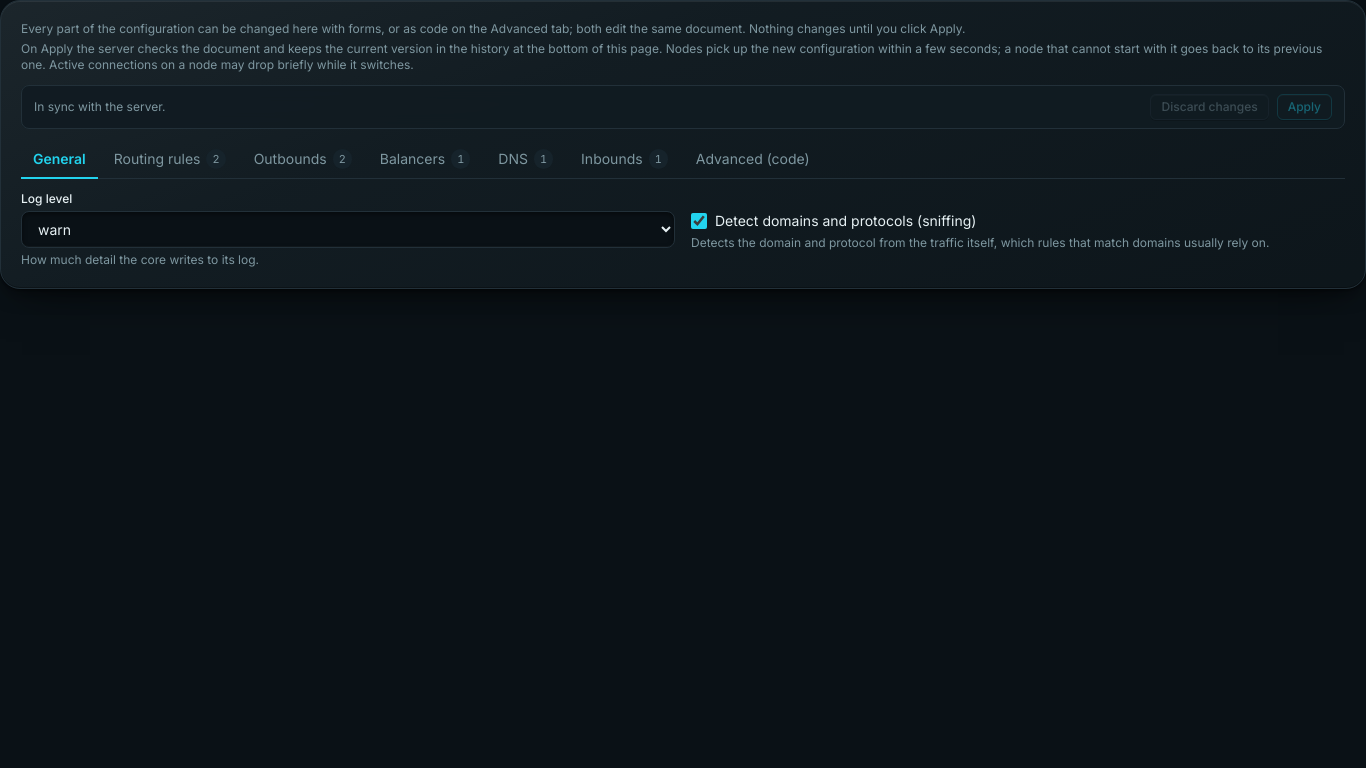
Test: outbounds › takes a duplicate tag at the field, not at Apply
The image size is (1366, 768).
Expected: the element named "Core Config" is shown, [21,141,1345,179]
Click the tab "Outbounds 2": point(303, 160) [242,141,364,179]
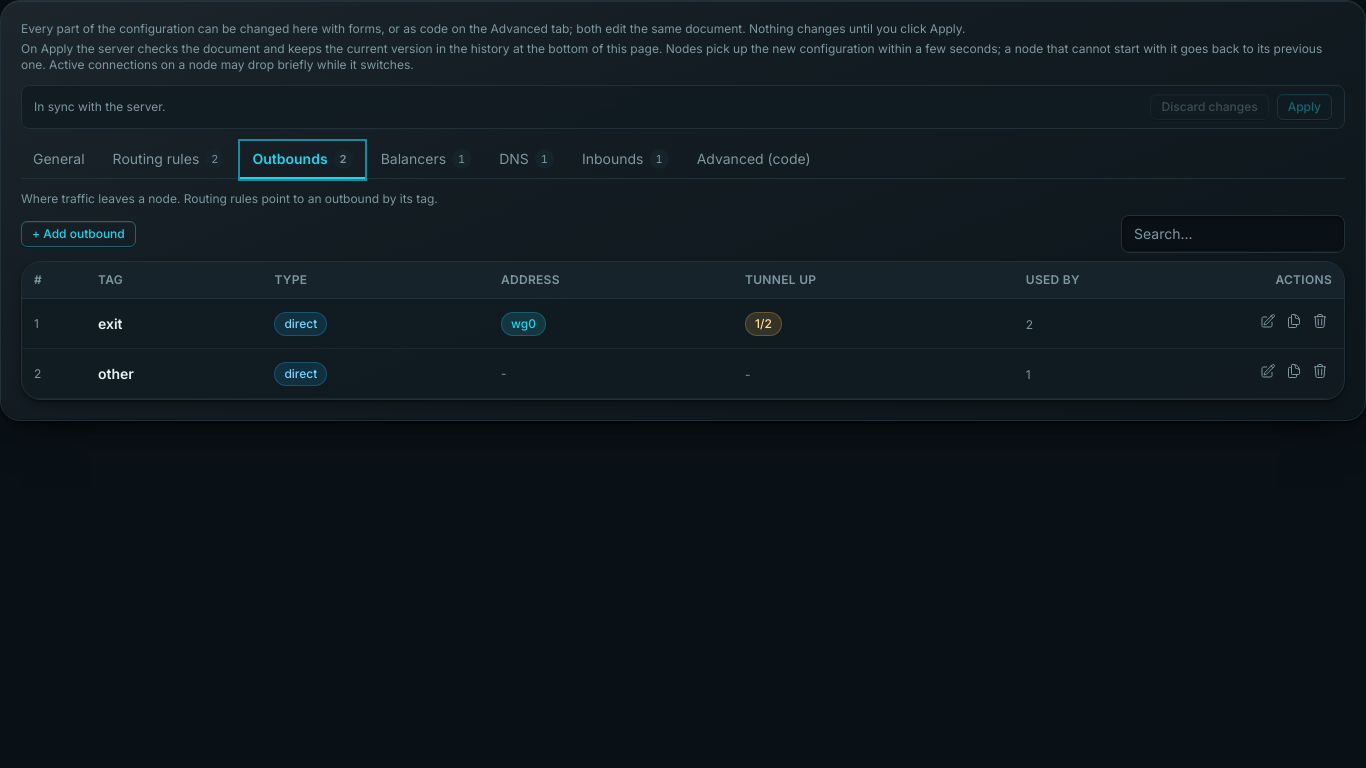
Click the button "+ Add outbound": point(78, 234) [21,221,136,247]
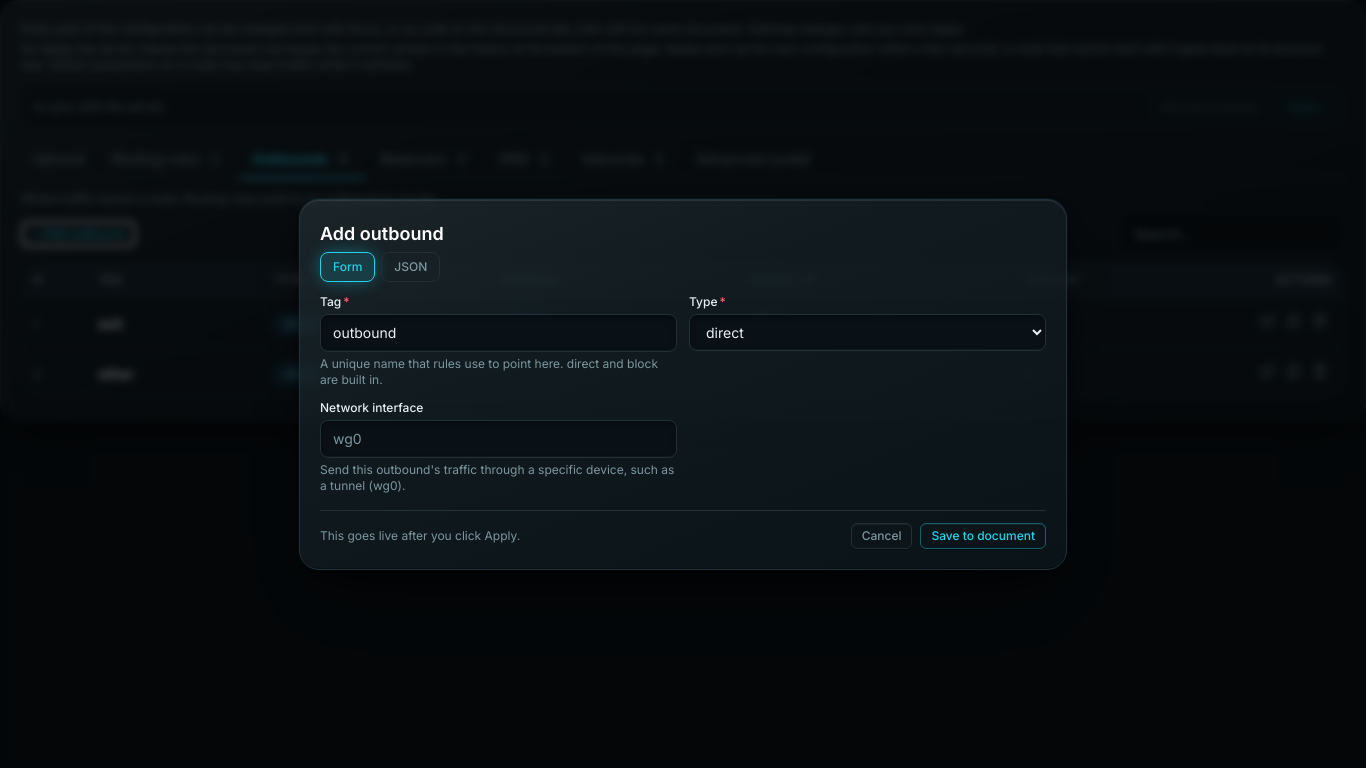
Replace the text in the field with id "core-field-tag" with "exit": point(498, 332) [320,314,677,352]
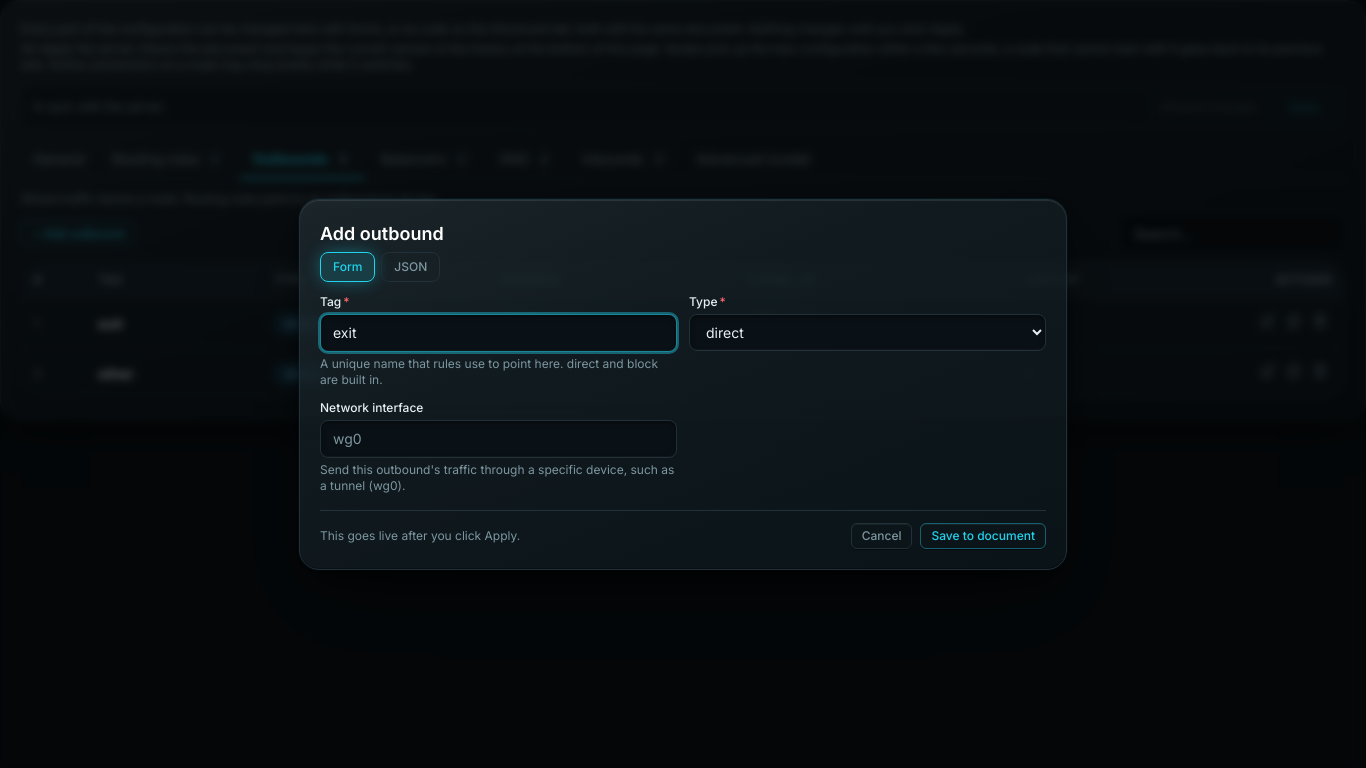
Click the button "Save to document": point(983, 536) [920,522,1046,548]
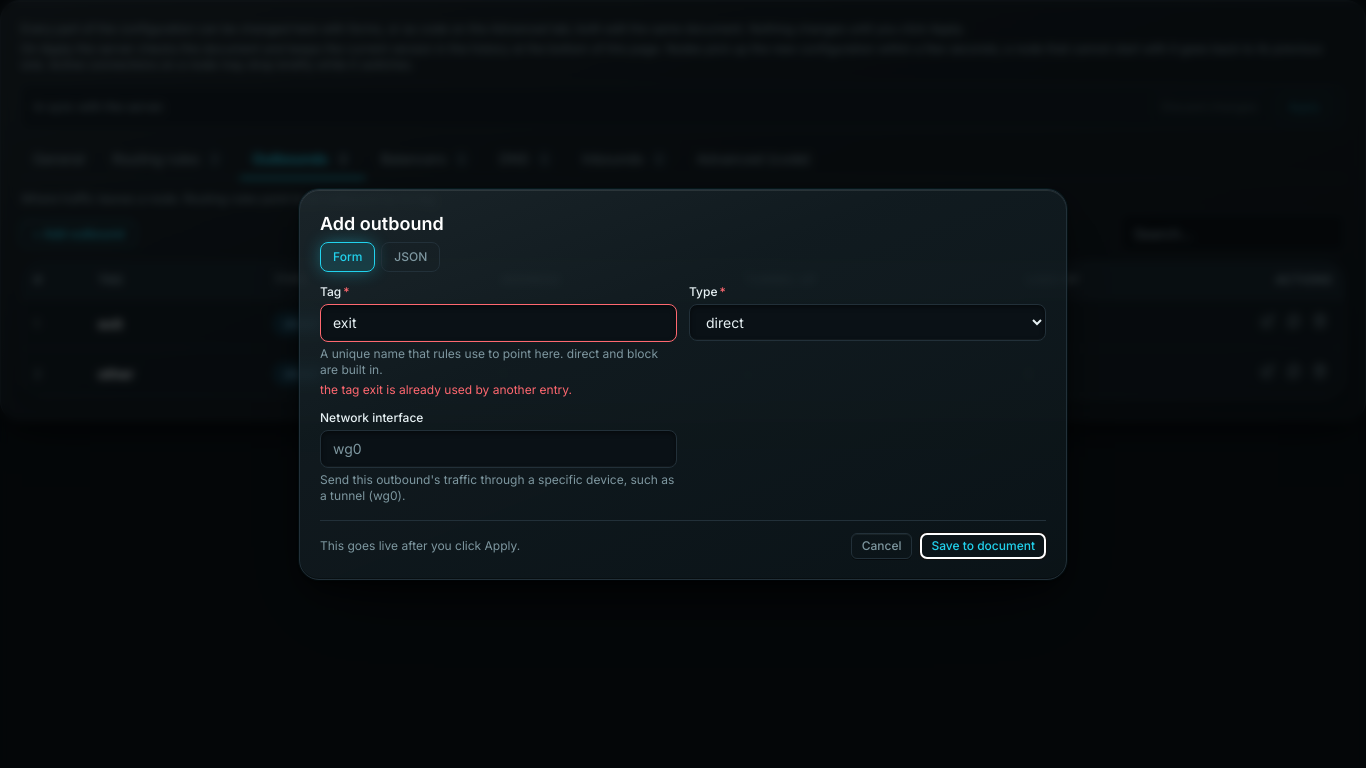
Now the message shows "is already used", box [320,382,572,396]
